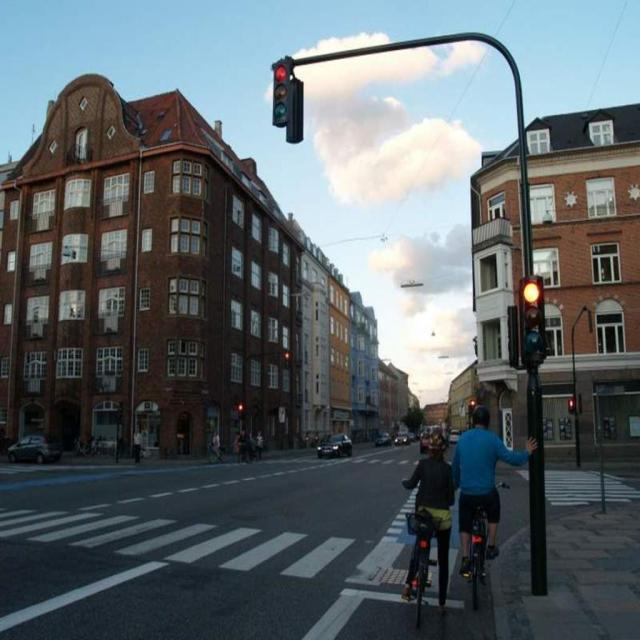traffic light: (521, 279, 545, 359), (271, 59, 292, 128)
